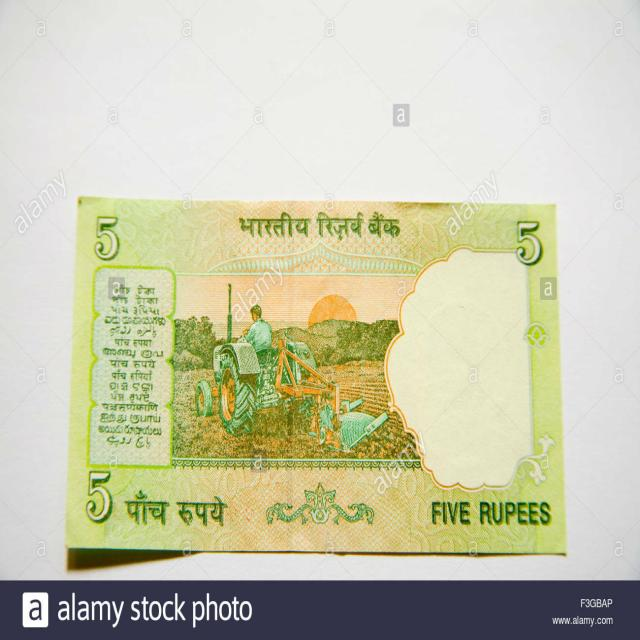5IndianRupees: (71, 195, 557, 553)
